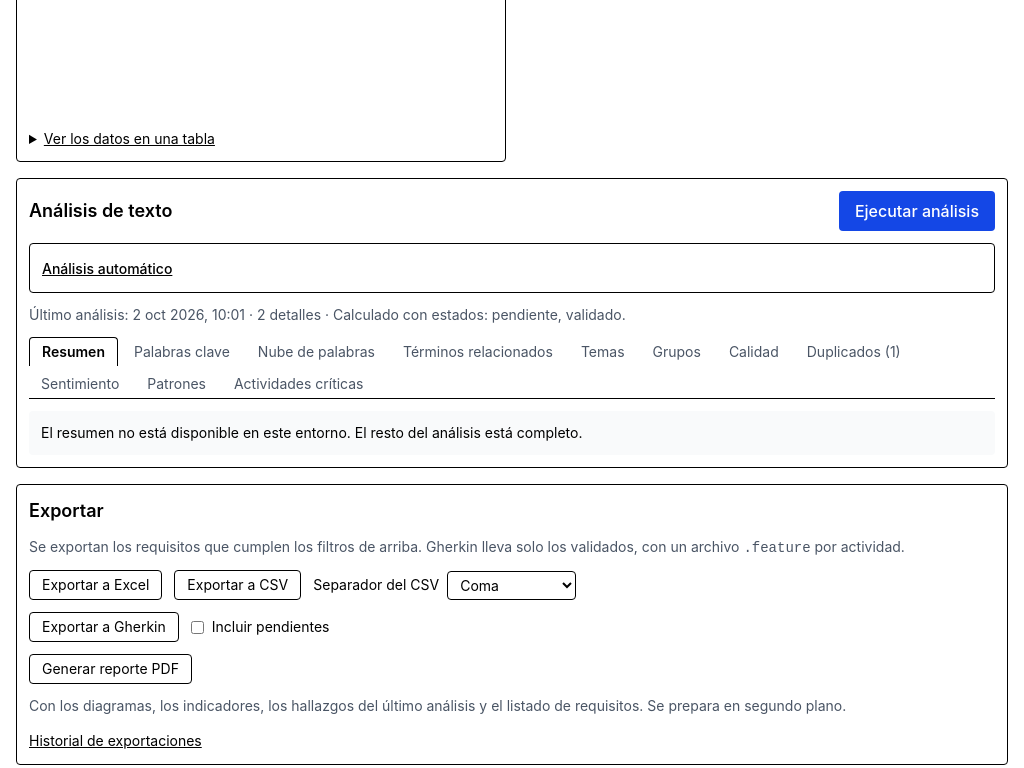
Test: patrones › sin reglas lo indica
(page scrolled)
Click the tab "Patrones" at (177, 384), box [135, 370, 218, 398]
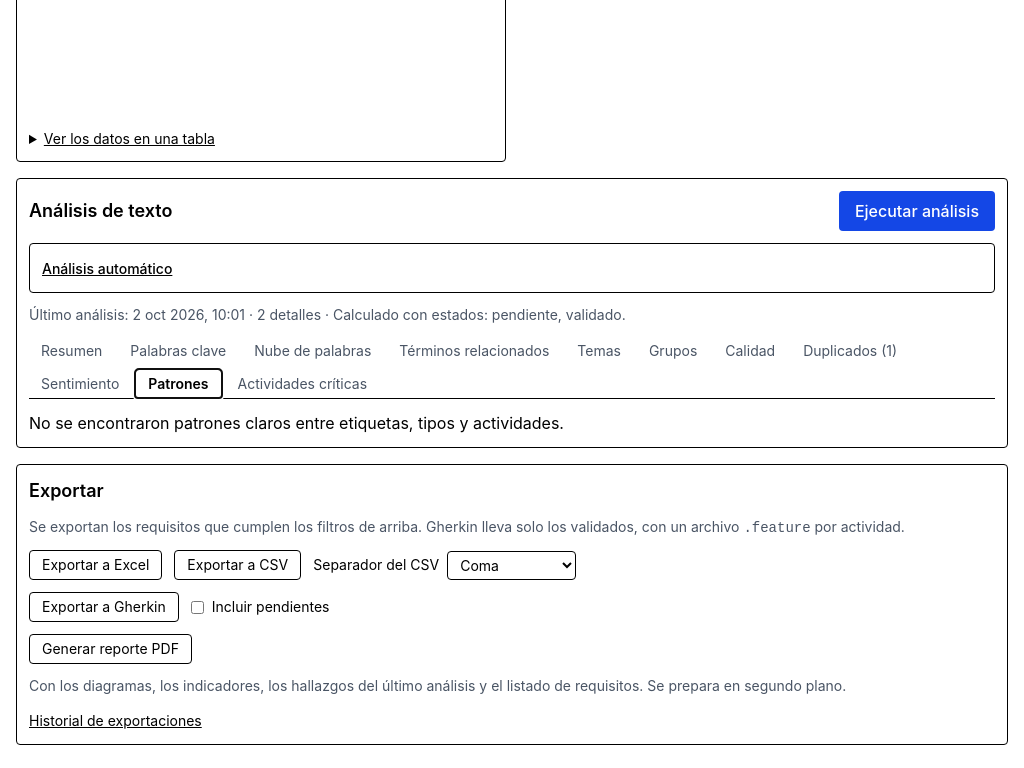
Expected: the text "No se encontraron patrones claros entre etiquetas, tipos y actividades." is shown, [29, 413, 564, 433]
